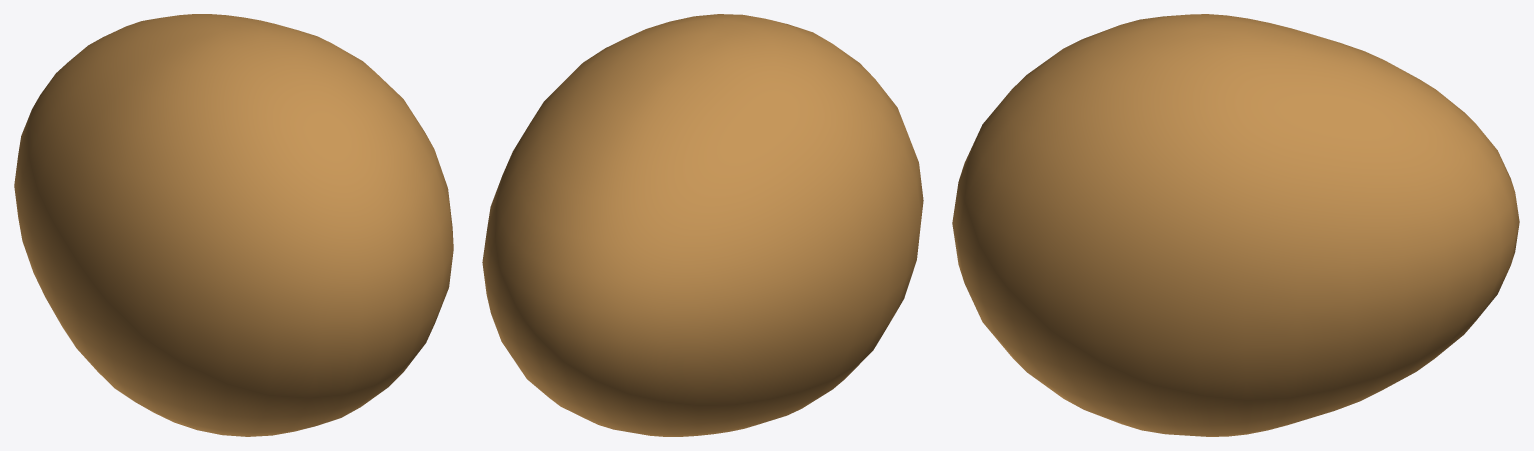
The model's file is brownegg.fbx.
3 renders of one model, left to right at view 1: azimuth 30°, elevation 25°; view 2: azimuth 150°, elevation 25°; view 3: azimuth 270°, elevation 25°, orthographic. The views are drawn at different scales.
Parts seen in each view (by area): view 1: Sphere.001; view 2: Sphere.001; view 3: Sphere.001.
Part boxes in pixels (x1,y1,x2,y2): Sphere.001: (14,14,453,436); Sphere.001: (482,14,923,436); Sphere.001: (952,14,1519,436).
Bounding box in the file's own units: 0.1316 × 0.1334 × 0.1795.
